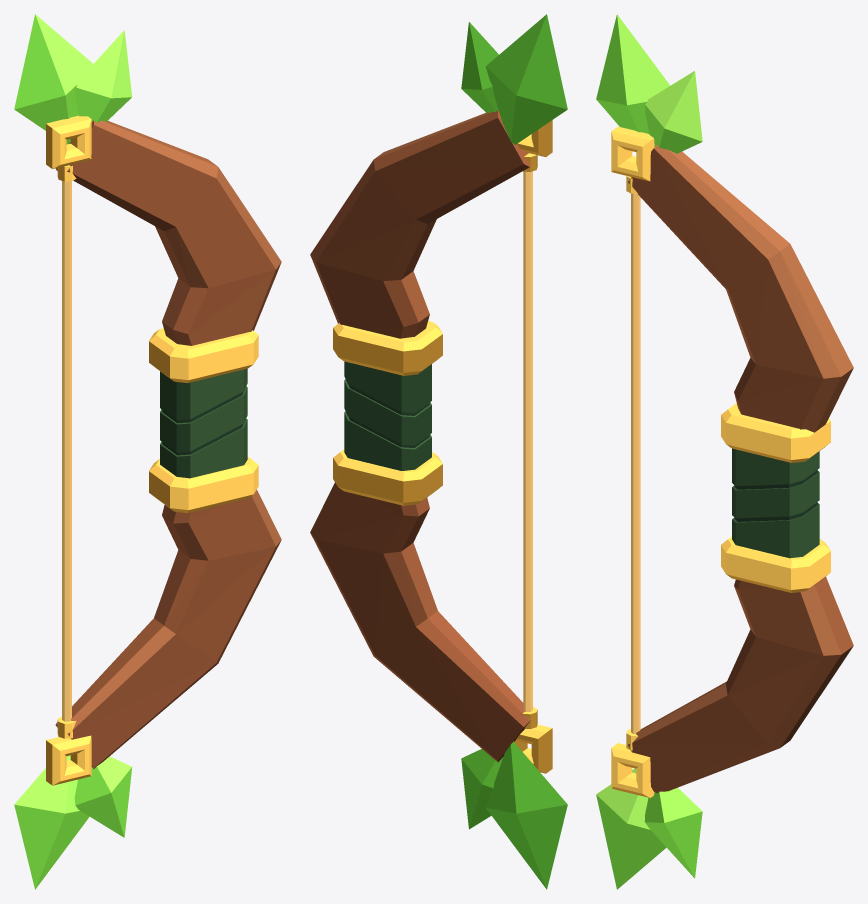
The model's file is twig_bow.glb.
3 views of the same model, side by side, from view 1: azimuth 30°, elevation 25°; view 2: azimuth 150°, elevation 25°; view 3: azimuth 330°, elevation 25° (orthographic).
Parts seen in each view (by area): view 1: limbs, string, leaf_big_top, leaf_big_bottom, band_top, band_bottom, leaf_small_top, leaf_small_bottom, grip_block_3, grip_block_2, grip_block_1, nock_knot_top (+2 smaller); view 2: limbs, leaf_big_bottom, leaf_big_top, string, band_top, band_bottom, grip_block_3, grip_block_2, grip_block_1, leaf_small_top, leaf_small_bottom, nock_knot_bottom (+2 smaller); view 3: limbs, string, leaf_big_top, leaf_big_bottom, band_bottom, band_top, leaf_small_top, leaf_small_bottom, grip_block_1, grip_block_2, grip_block_3, nock_knot_top (+2 smaller).
Boxes of the visible parts, left/top/right/bottom form: limbs: left=55, top=120, right=281, bottom=768; string: left=62, top=181, right=71, bottom=721; leaf_big_top: left=14, top=14, right=92, bottom=144; leaf_big_bottom: left=14, top=755, right=89, bottom=889; band_top: left=149, top=328, right=258, bottom=383; band_bottom: left=149, top=457, right=258, bottom=512; leaf_small_top: left=75, top=30, right=132, bottom=122; leaf_small_bottom: left=74, top=756, right=132, bottom=837; grip_block_3: left=160, top=368, right=247, bottom=420; grip_block_2: left=160, top=386, right=247, bottom=452; grip_block_1: left=160, top=418, right=247, bottom=478; nock_knot_top: left=46, top=115, right=91, bottom=169; limbs: left=310, top=110, right=531, bottom=762; leaf_big_bottom: left=485, top=741, right=567, bottom=889; leaf_big_top: left=485, top=14, right=567, bottom=144; string: left=523, top=153, right=532, bottom=711; band_top: left=333, top=321, right=442, bottom=375; band_bottom: left=333, top=449, right=442, bottom=505; grip_block_3: left=344, top=361, right=431, bottom=412; grip_block_2: left=344, top=379, right=431, bottom=445; grip_block_1: left=344, top=411, right=431, bottom=470; leaf_small_top: left=461, top=22, right=498, bottom=112; leaf_small_bottom: left=461, top=749, right=503, bottom=829; nock_knot_bottom: left=514, top=724, right=552, bottom=773; limbs: left=628, top=144, right=853, bottom=793; string: left=631, top=193, right=640, bottom=733; leaf_big_top: left=596, top=14, right=670, bottom=133; leaf_big_bottom: left=596, top=768, right=666, bottom=889; band_bottom: left=721, top=536, right=830, bottom=592; band_top: left=721, top=403, right=830, bottom=462; leaf_small_top: left=645, top=71, right=702, bottom=153; leaf_small_bottom: left=644, top=787, right=702, bottom=878; grip_block_1: left=732, top=503, right=819, bottom=558; grip_block_2: left=732, top=470, right=819, bottom=518; grip_block_3: left=732, top=448, right=819, bottom=486; nock_knot_top: left=611, top=126, right=654, bottom=181.
Size of the model in its own units: 0.3614 by 1.18 by 0.085.
